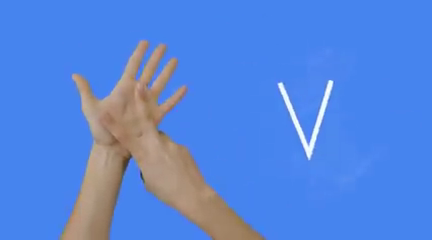V: (62, 30, 218, 212)
